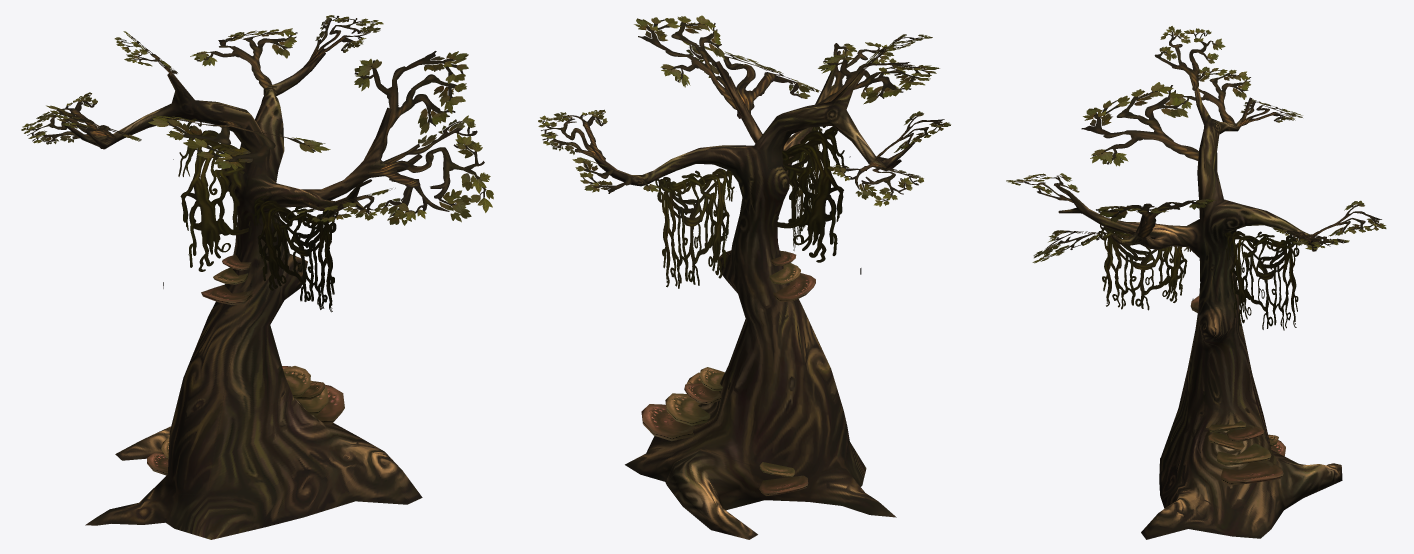
File: tree_02.fbx
The picture shows the model from 3 angles, left to right: view 1: azimuth 30°, elevation 25°; view 2: azimuth 150°, elevation 25°; view 3: azimuth 270°, elevation 25°; orthographic projection. The views are drawn at different scales.
Visible parts, largest first — view 1: tree_02, tree_02_alpha; view 2: tree_02, tree_02_alpha; view 3: tree_02, tree_02_alpha.
Part boxes in pixels (x1,y1,x2,y2): tree_02: [61, 50, 422, 539]; tree_02_alpha: [21, 15, 493, 312]; tree_02: [588, 50, 914, 539]; tree_02_alpha: [538, 15, 950, 288]; tree_02: [1054, 81, 1342, 539]; tree_02_alpha: [1006, 26, 1386, 330].
Size of the model in its own units: 919 by 1103 by 1000.
